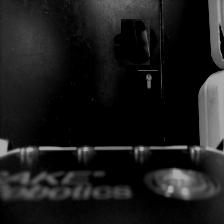Door Handle: (116, 23, 154, 61)
Lock: (138, 70, 158, 95)
